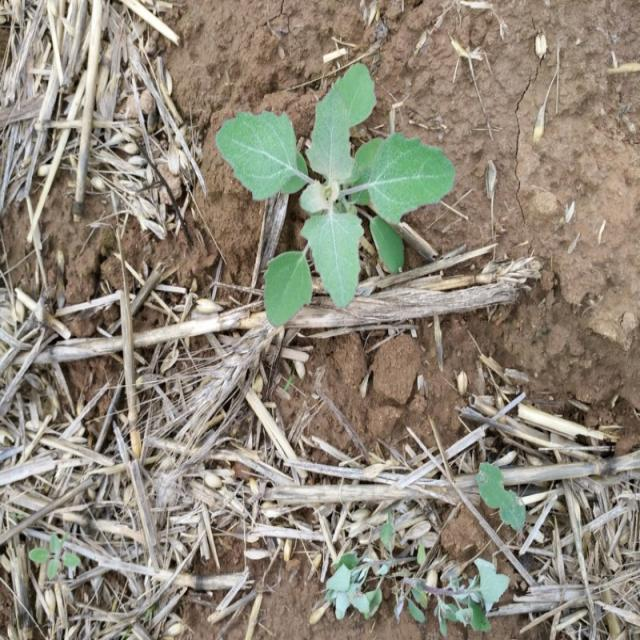goosefoots: (222, 63, 449, 336)
